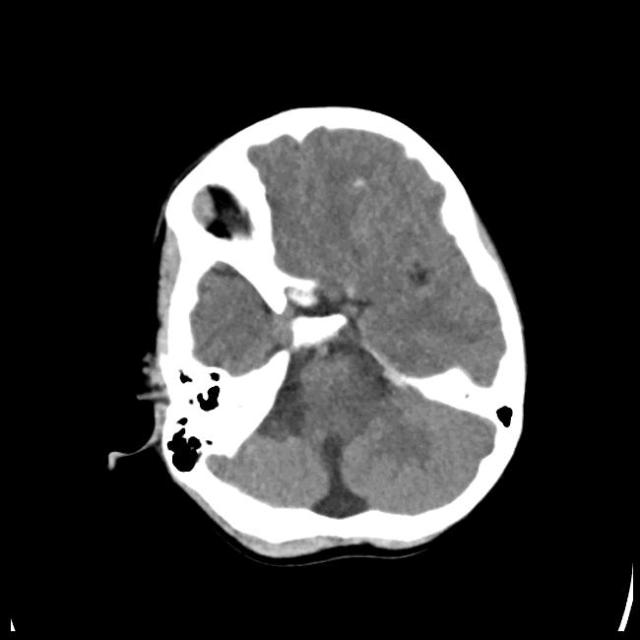lesion: (116, 103, 531, 562)
